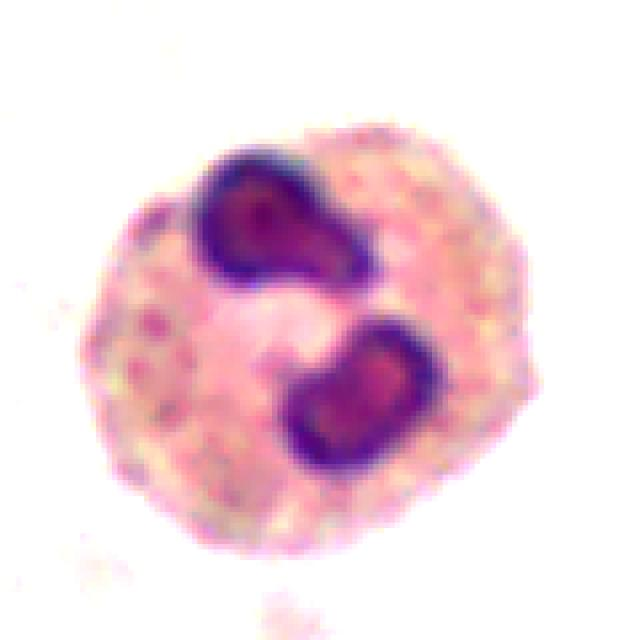WBC: (75, 90, 560, 586)
